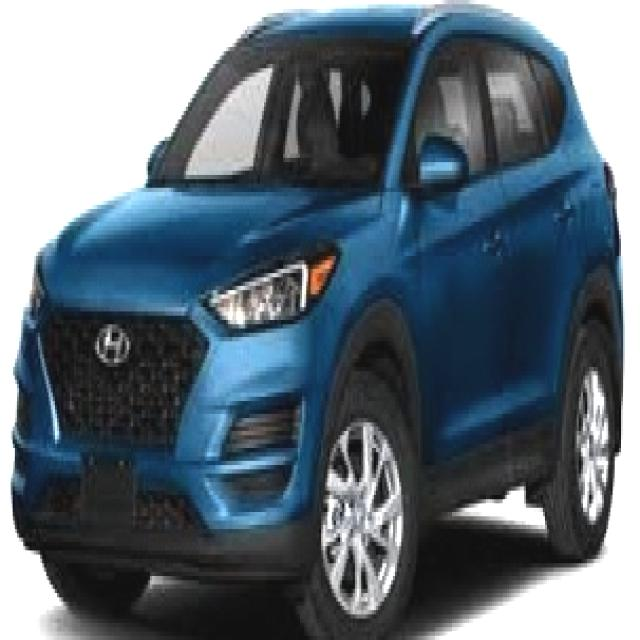blue: (23, 9, 640, 636)
